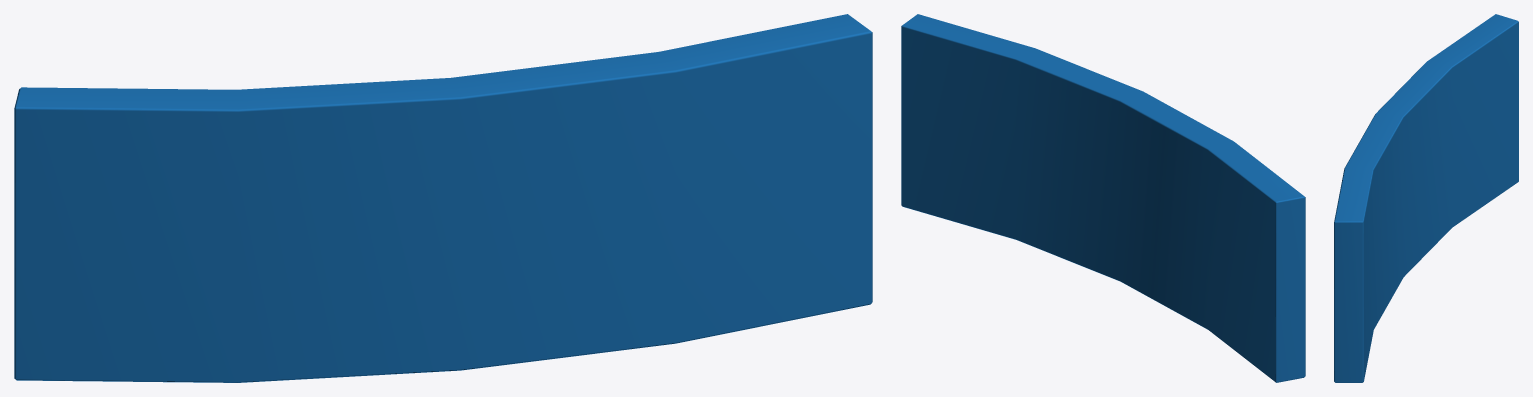
File: Edge_Turn_90_05.fbx
3 renders of one model, left to right at view 1: azimuth 30°, elevation 25°; view 2: azimuth 150°, elevation 25°; view 3: azimuth 270°, elevation 25°, orthographic. The views are drawn at different scales.
Parts seen in each view (by area): view 1: Edge_Turn_90_05; view 2: Edge_Turn_90_05; view 3: Edge_Turn_90_05.
Boxes of the visible parts, <box> form: Edge_Turn_90_05: <box>14,14,872,382</box>; Edge_Turn_90_05: <box>901,14,1305,382</box>; Edge_Turn_90_05: <box>1334,14,1518,382</box>.
Bounding box in the file's own units: 8 × 2.9 × 3.
